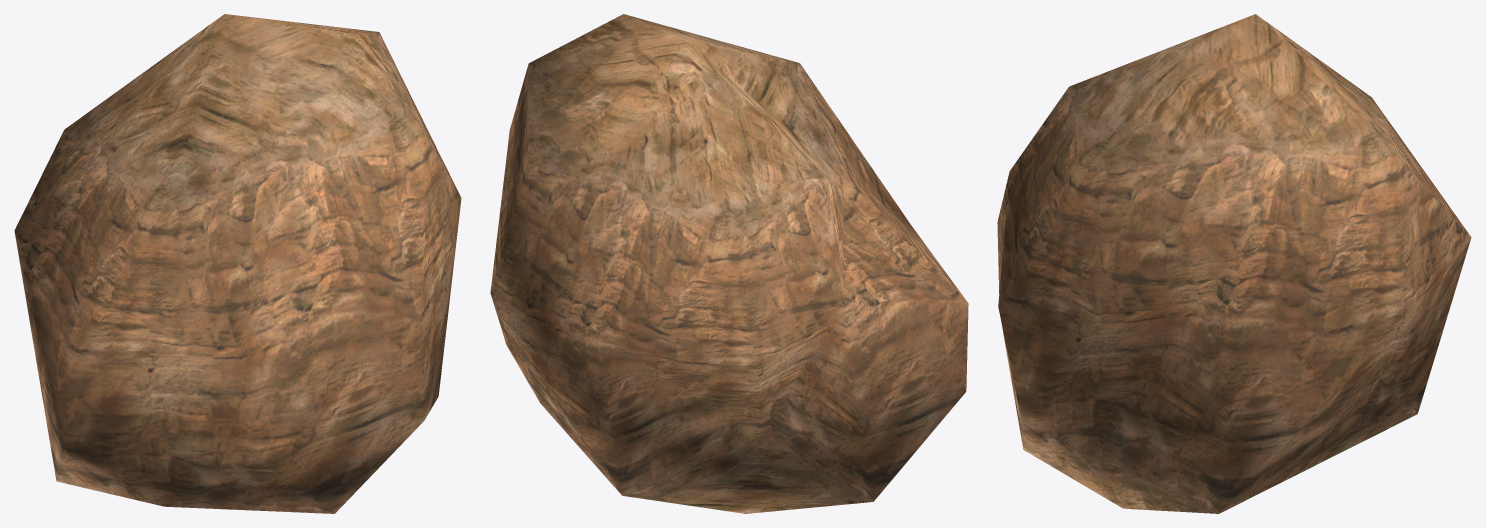
File: rock_tatt_bensmesa_boulder_a1_l2.fbx
3 views of the same model, side by side, from view 1: azimuth 30°, elevation 25°; view 2: azimuth 150°, elevation 25°; view 3: azimuth 270°, elevation 25° (orthographic). The views are drawn at different scales.
Visible parts, largest first — view 1: mesh_node; view 2: mesh_node; view 3: mesh_node.
Part boxes in pixels (x1,y1,x2,y2): mesh_node: (14,14,461,513); mesh_node: (490,14,968,513); mesh_node: (997,14,1471,513).
Size of the model in its own units: 3.48 by 3.64 by 3.41.
